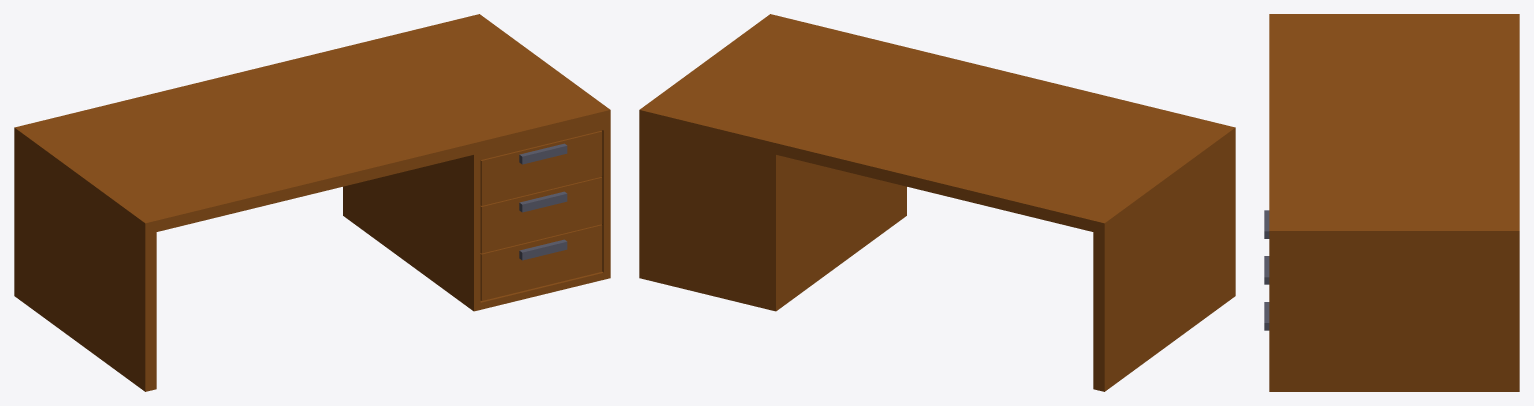
File: Desk.glb
3 renders of one model, left to right at view 1: azimuth 30°, elevation 25°; view 2: azimuth 150°, elevation 25°; view 3: azimuth 270°, elevation 25°, orthographic. The views are drawn at different scales.
Parts seen in each view (by area): view 1: Desk; view 2: Desk; view 3: Desk.
Part boxes in pixels (left/top/right/bottom): Desk: left=14, top=14, right=610, bottom=391; Desk: left=639, top=14, right=1235, bottom=391; Desk: left=1264, top=14, right=1519, bottom=391.
Bounding box in the file's own units: 3.13 × 1.08 × 1.56.
